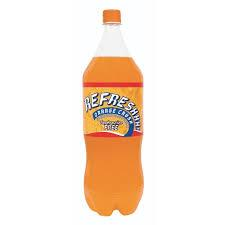Plastic bottle: (78, 3, 160, 221)
